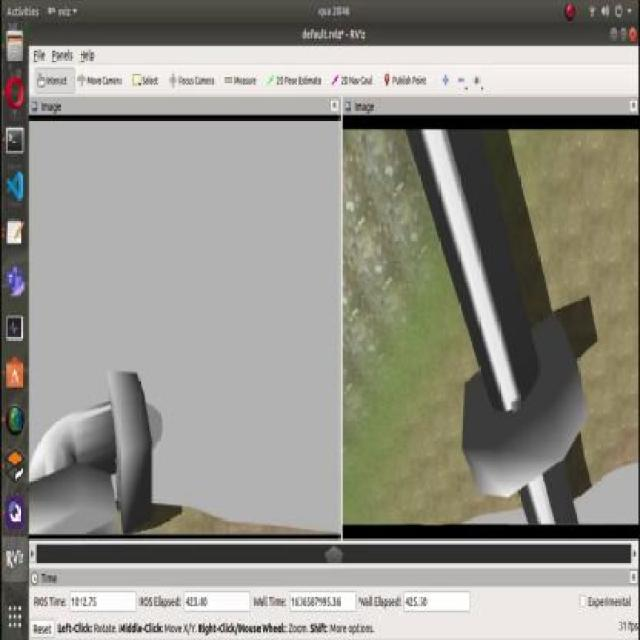gas: (411, 126, 576, 527), (29, 389, 140, 536)
